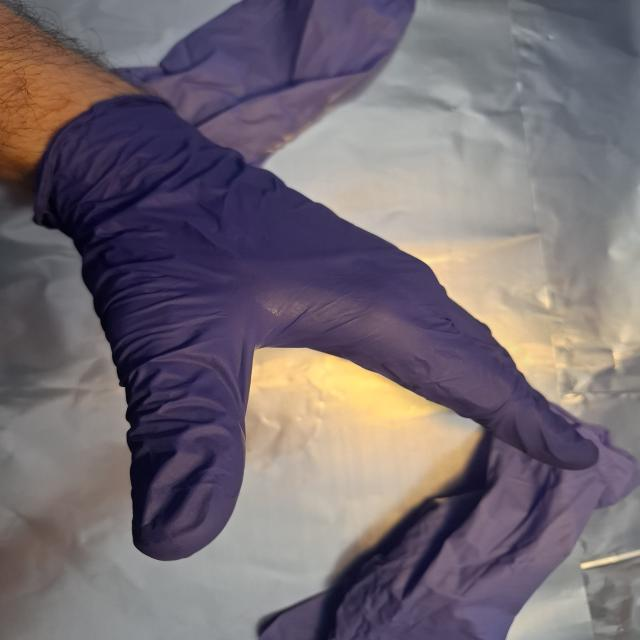glove_on: (32, 91, 603, 563)
